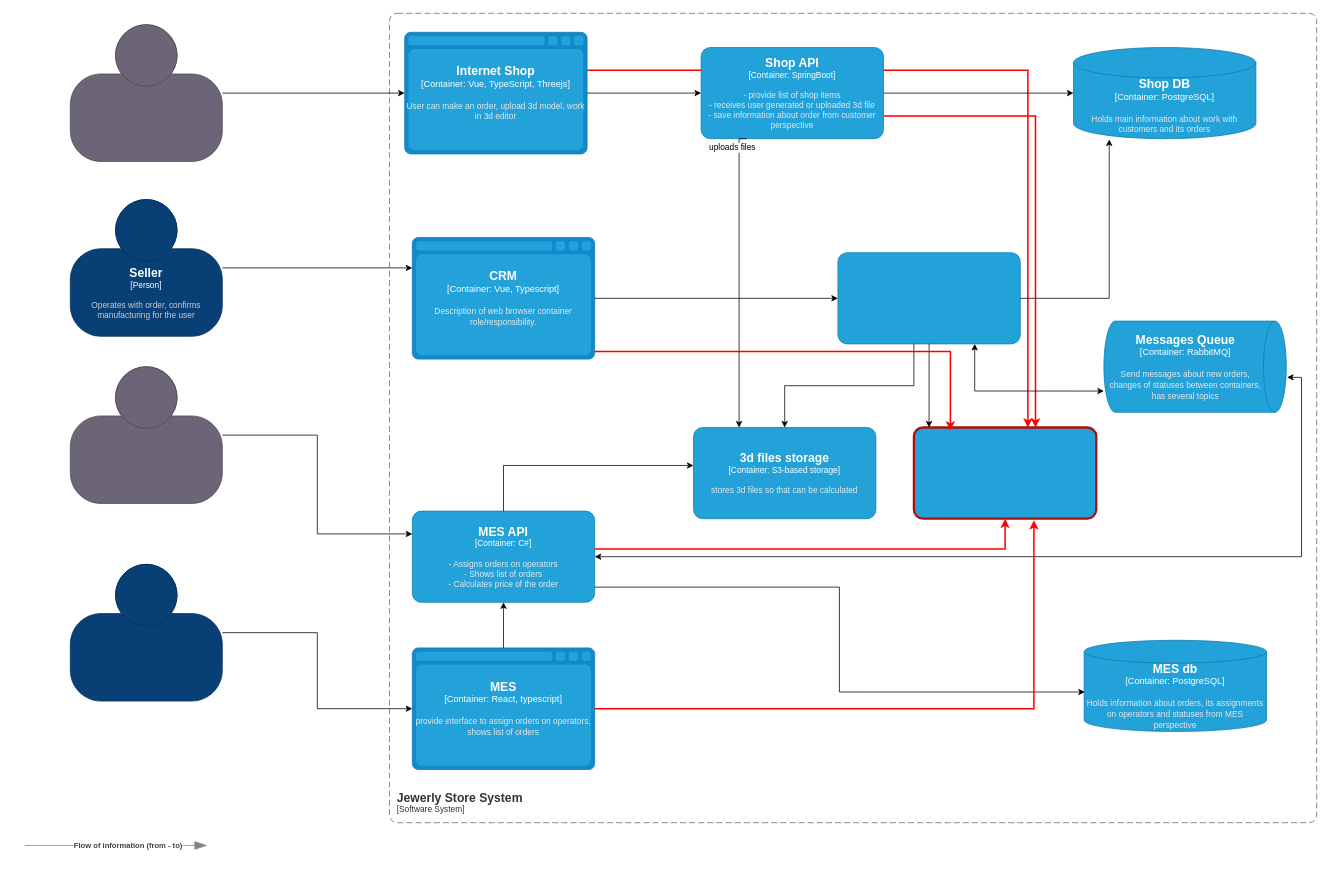
Image size: 1330x871. Some labels were removed from this diagram. Here are the shapes that lost their labels. From the top down, the box of each, then its label:
(70, 24, 222, 162): Customer [Person] Description of external person.
(837, 252, 1020, 344): CRM API [Container: SpringBoot] Description of container role/responsibility.
(70, 366, 222, 504): API user [Person] Description of external person.
(912, 426, 1097, 519): Tracing Service [Container: Jaeger] Tracing Service
(70, 564, 222, 701): Operator [Person] Takes order in work, manufactures jewerly
